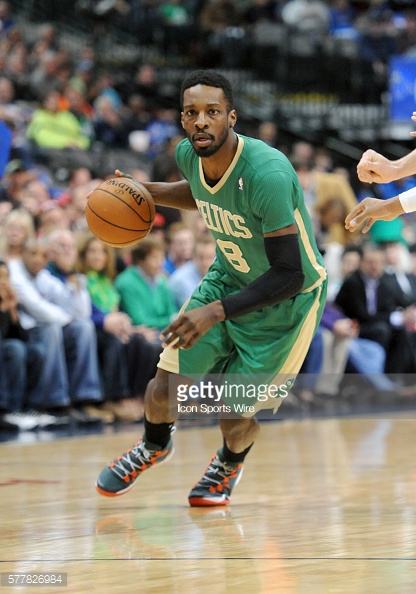basketball: (87, 178, 157, 249)
basketball player: (99, 71, 332, 510)
